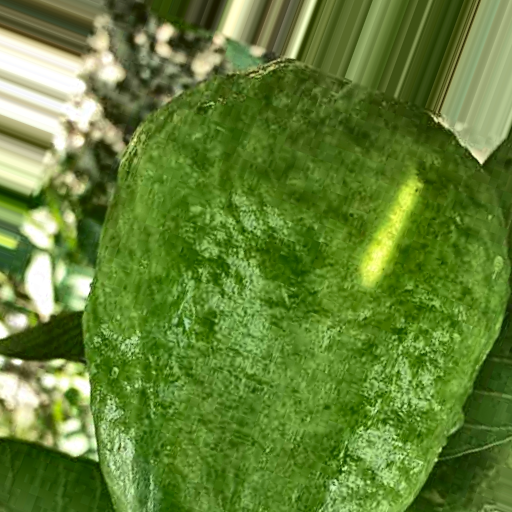guava: (69, 25, 480, 422)
